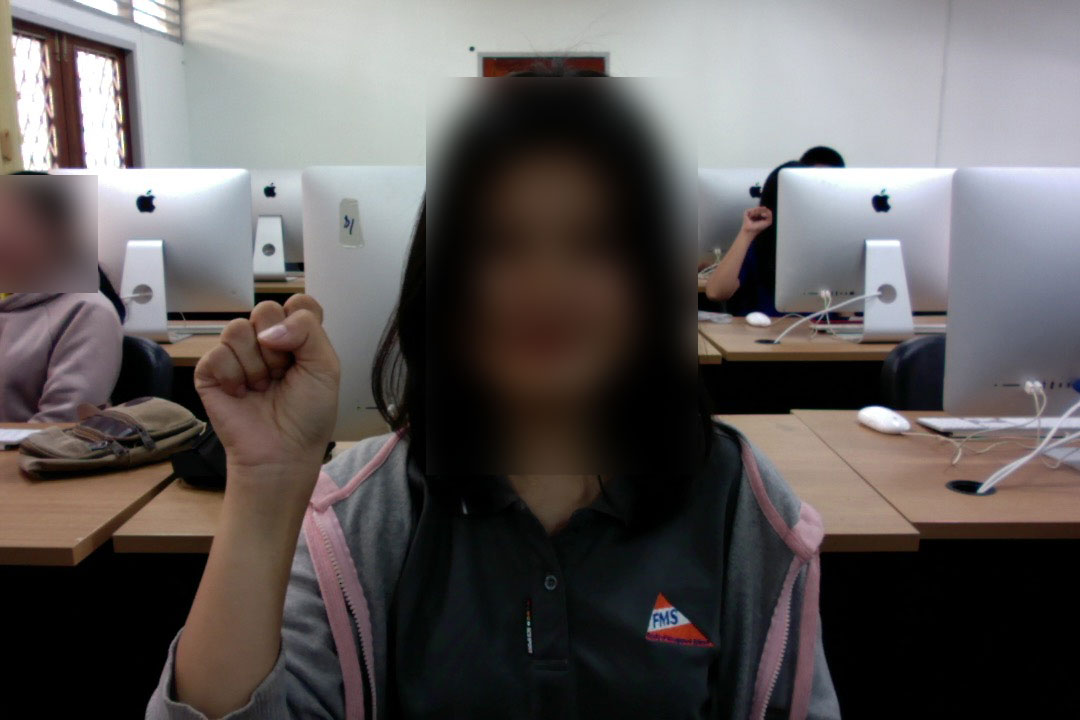sor: (188, 283, 351, 504)
